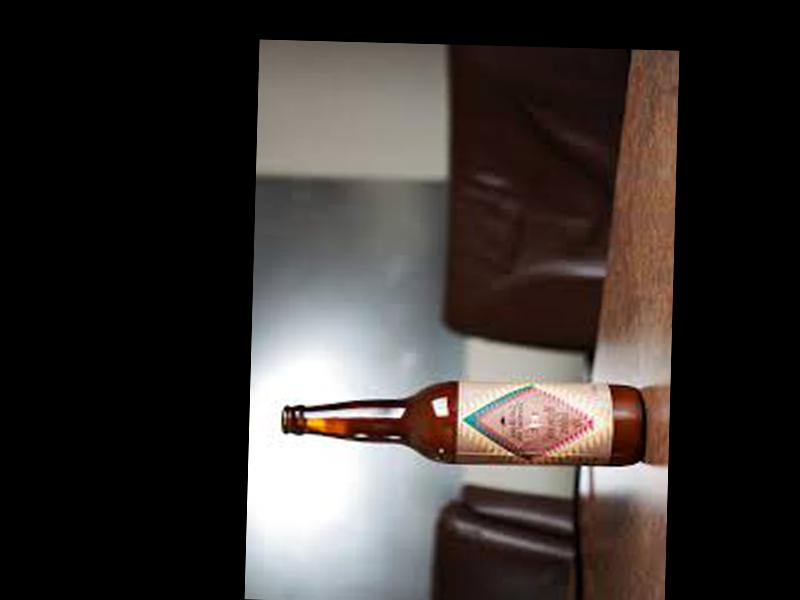Beer: (283, 378, 645, 467)
